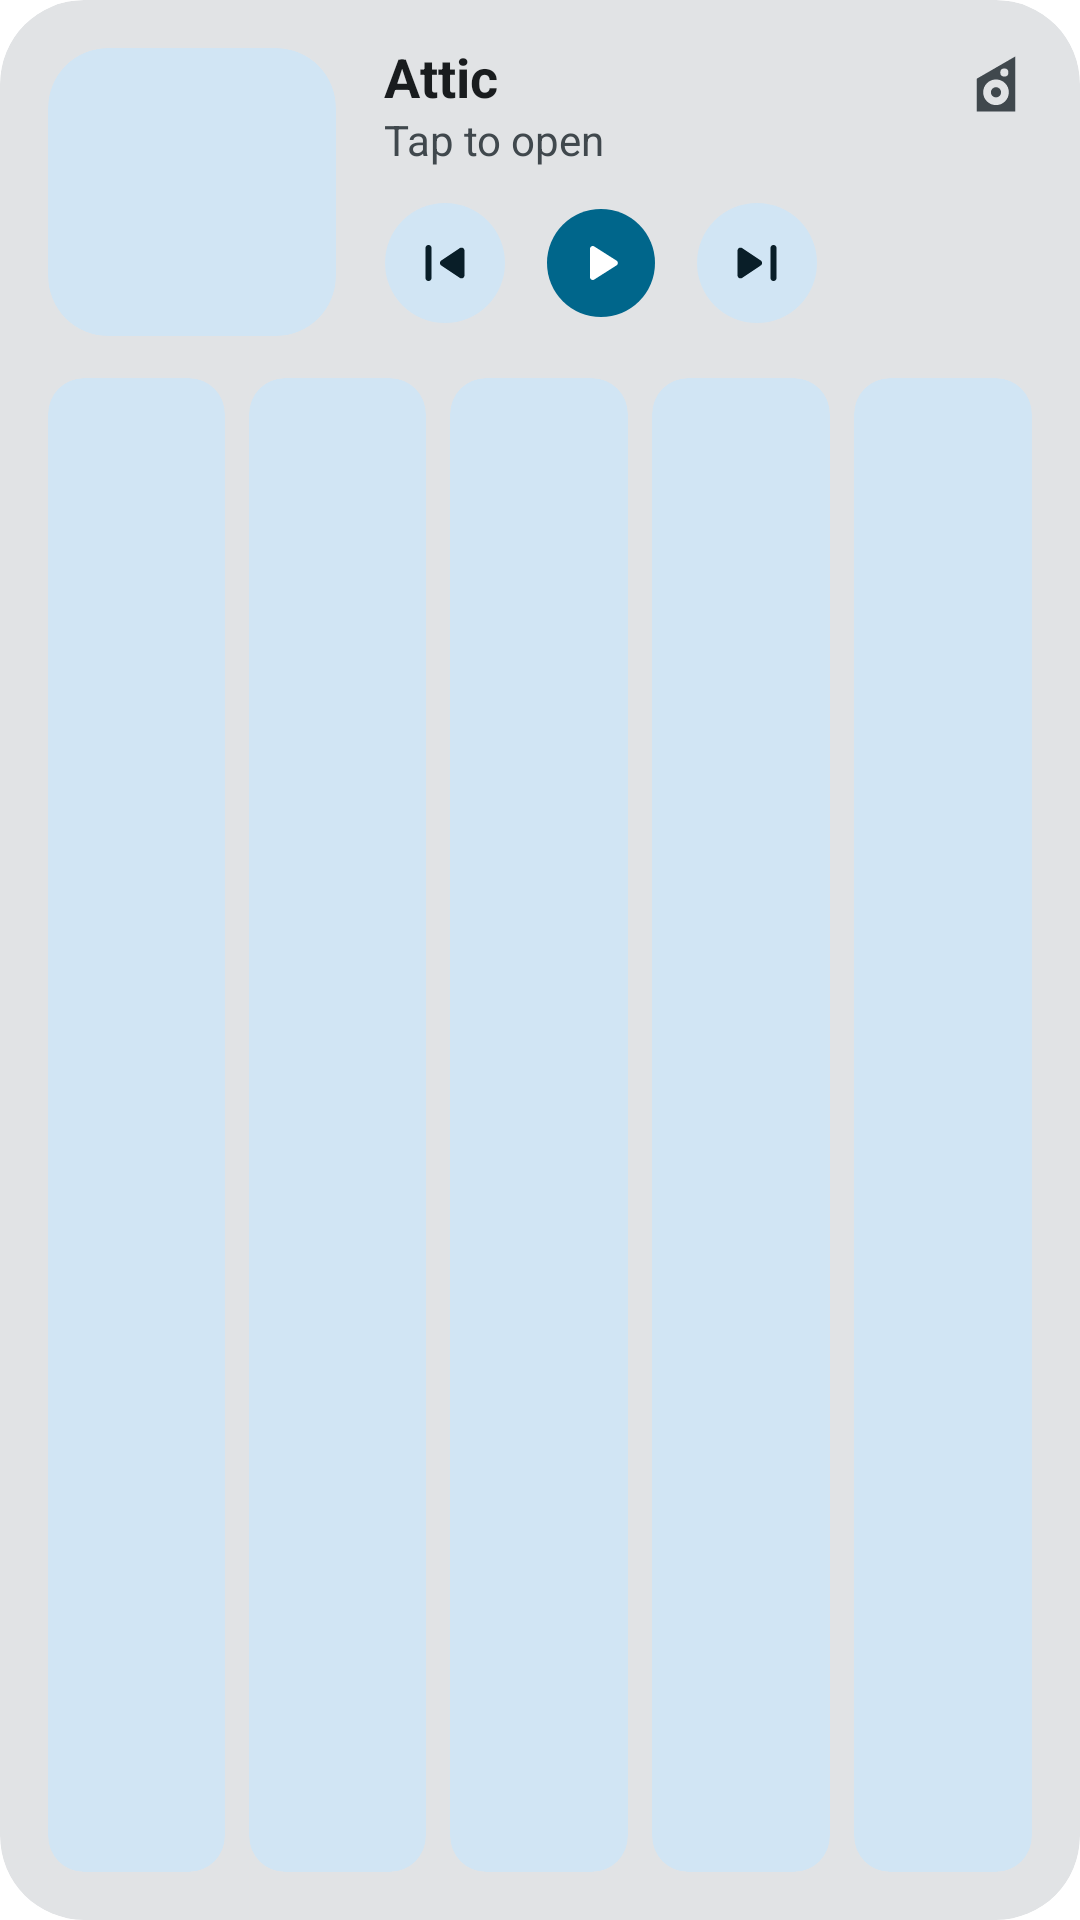

Named icons in this screenshot (1080x1920) and their bounding boxes, {"x1": x1, "y1": y1, "x2": x2, "y2": y2}:
Next: {"x1": 737, "y1": 245, "x2": 777, "y2": 281}
Previous: {"x1": 425, "y1": 245, "x2": 465, "y2": 281}
